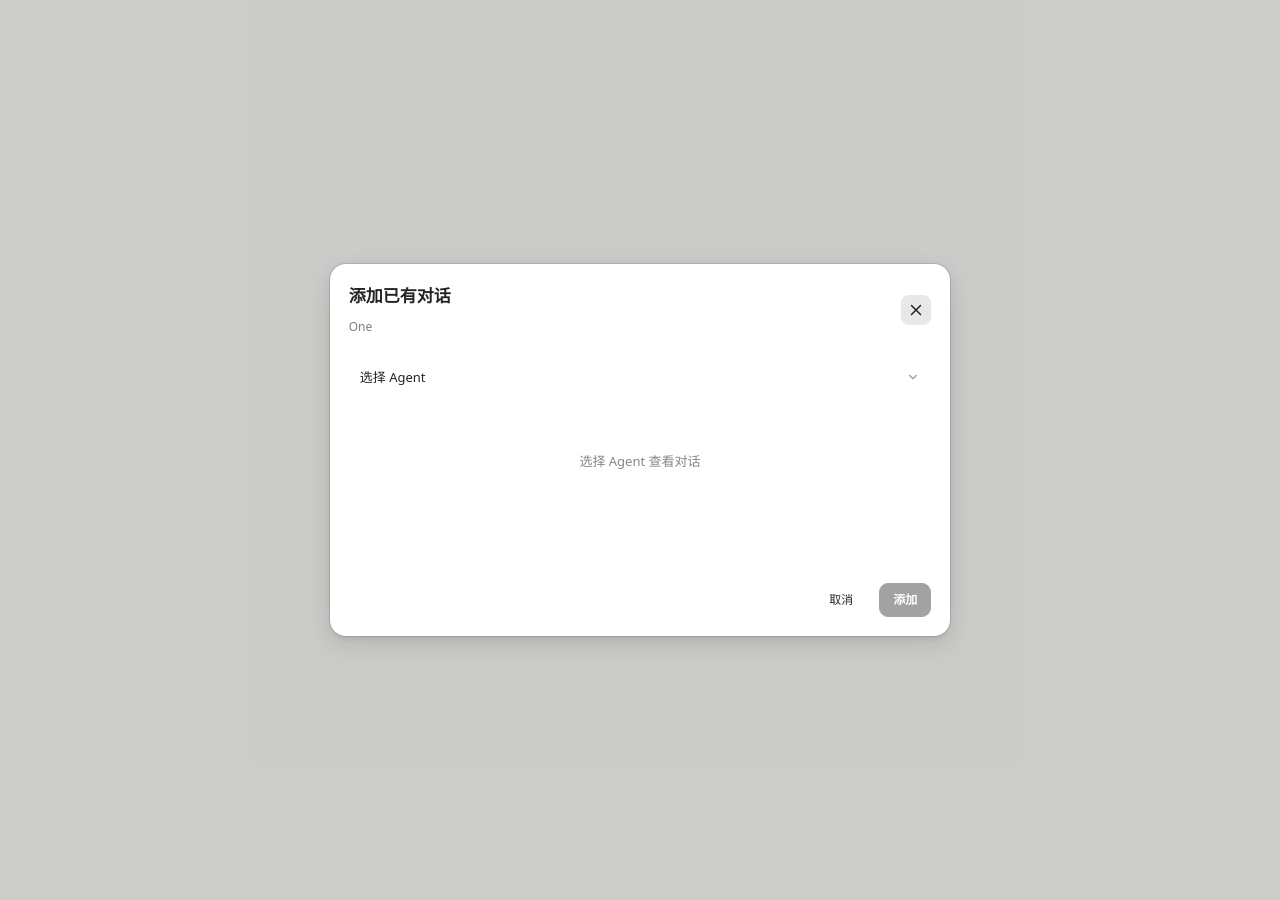
Scenario: clears source-specific search and selection and ignores a late previous source response
Click the dropdown labelled "Agent". click: {"x": 393, "y": 377}
box: [349,359,931,395]
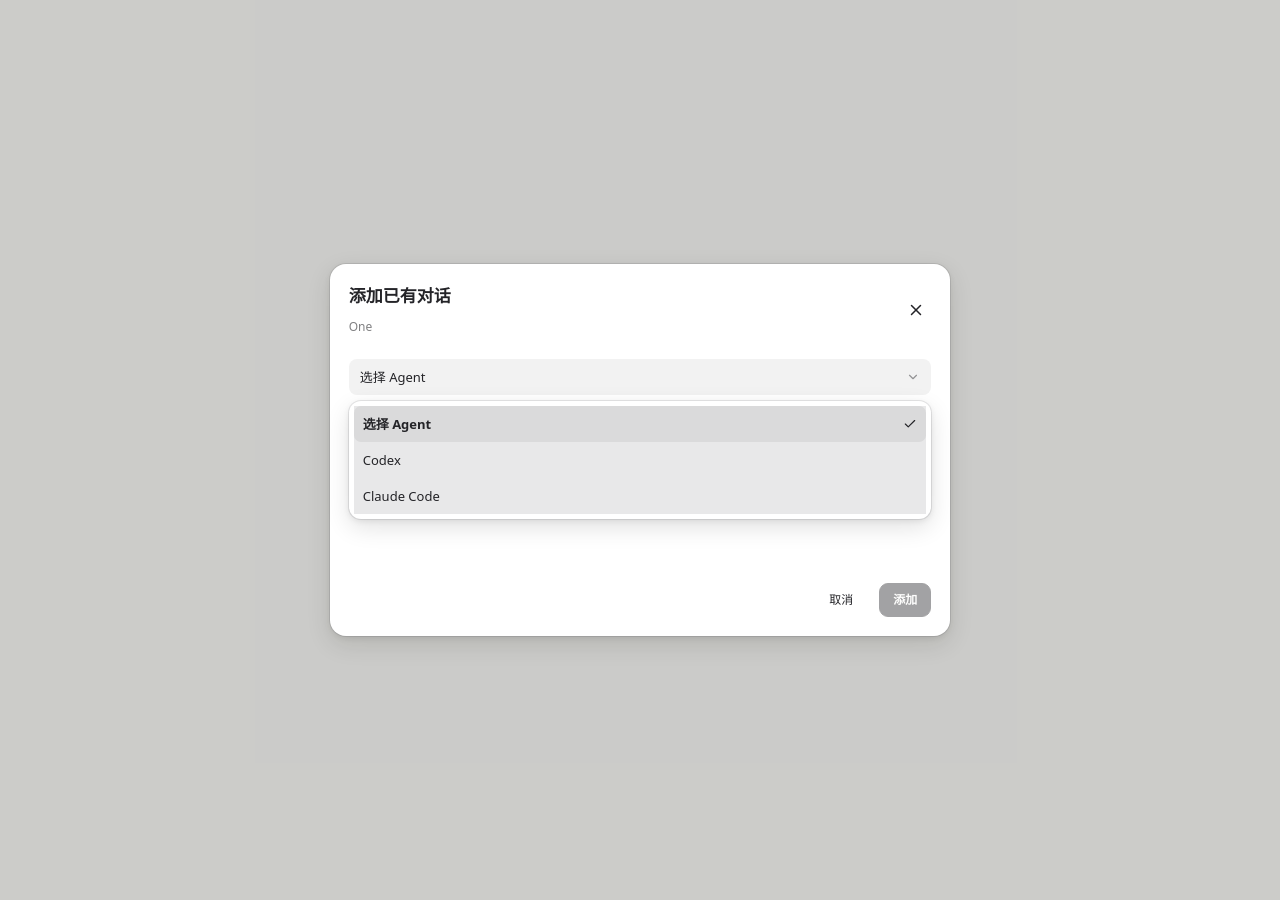
Click the option "Codex". click: {"x": 382, "y": 460}
box: [363,451,401,469]
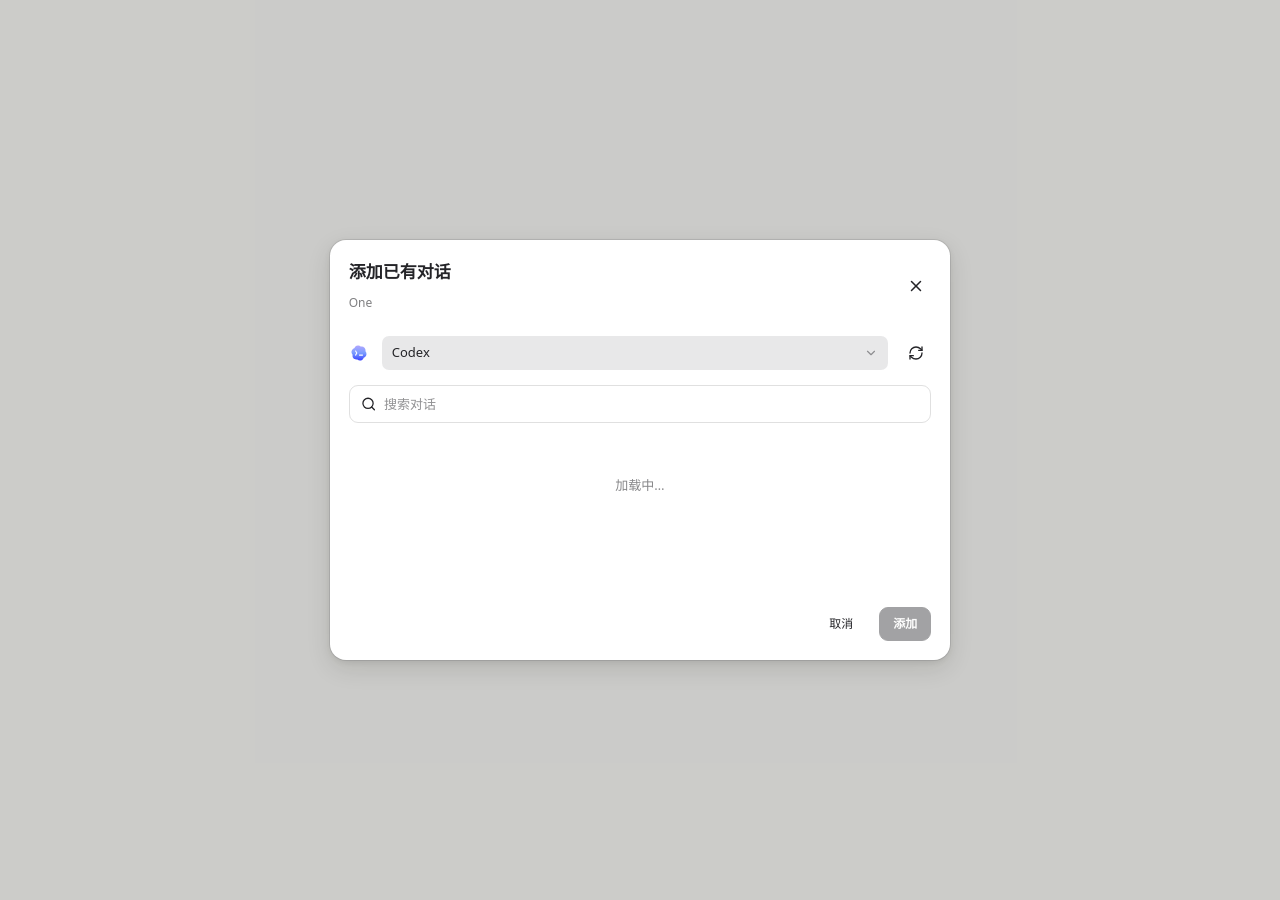
Type "old" into the field labelled "搜索对话". click: {"x": 652, "y": 404}
box: [384,394,919,414]
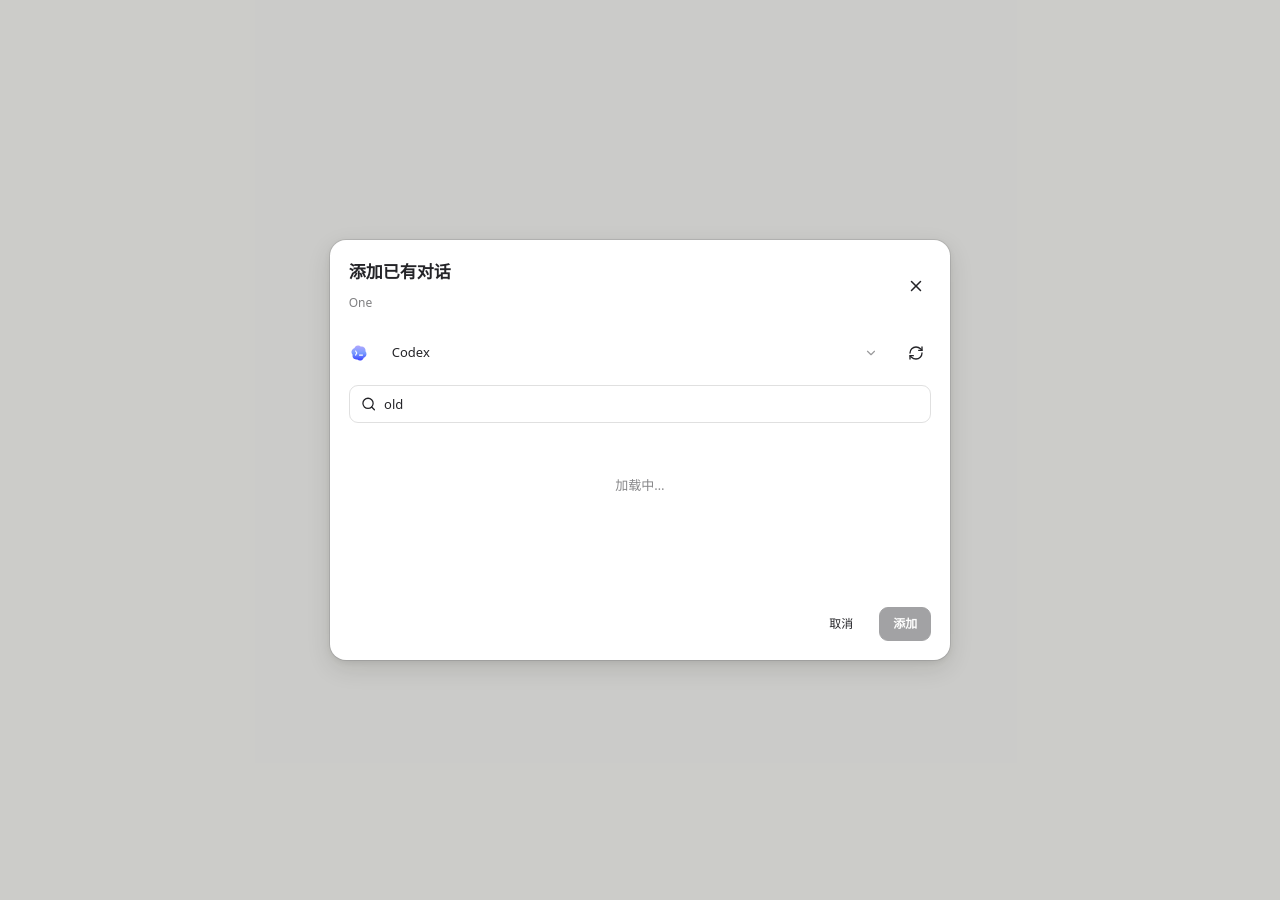
Click the dropdown named "Agent". click: {"x": 411, "y": 352}
box: [381,335,889,371]
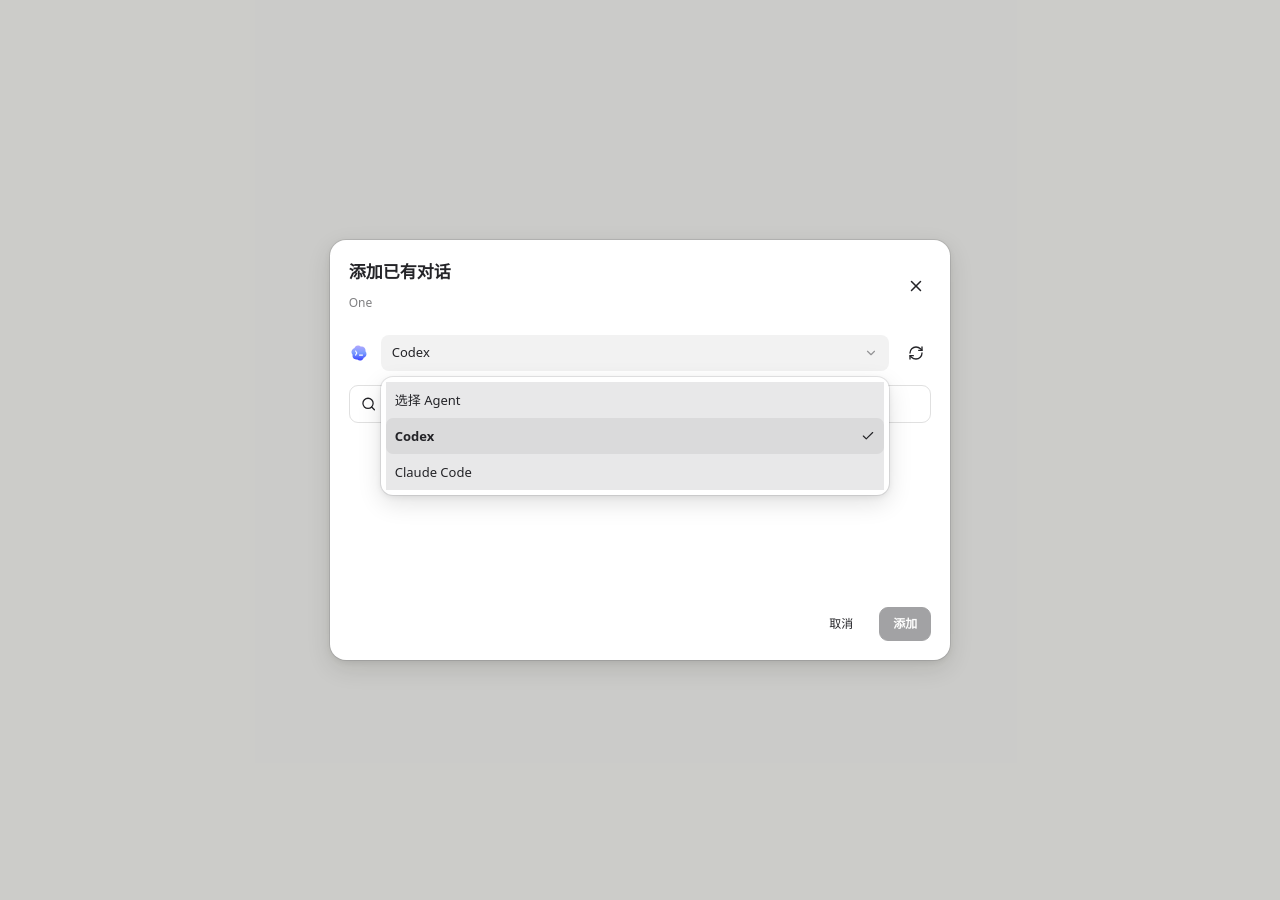
Click the option "Claude Code". click: {"x": 433, "y": 472}
box: [395,463,472,481]
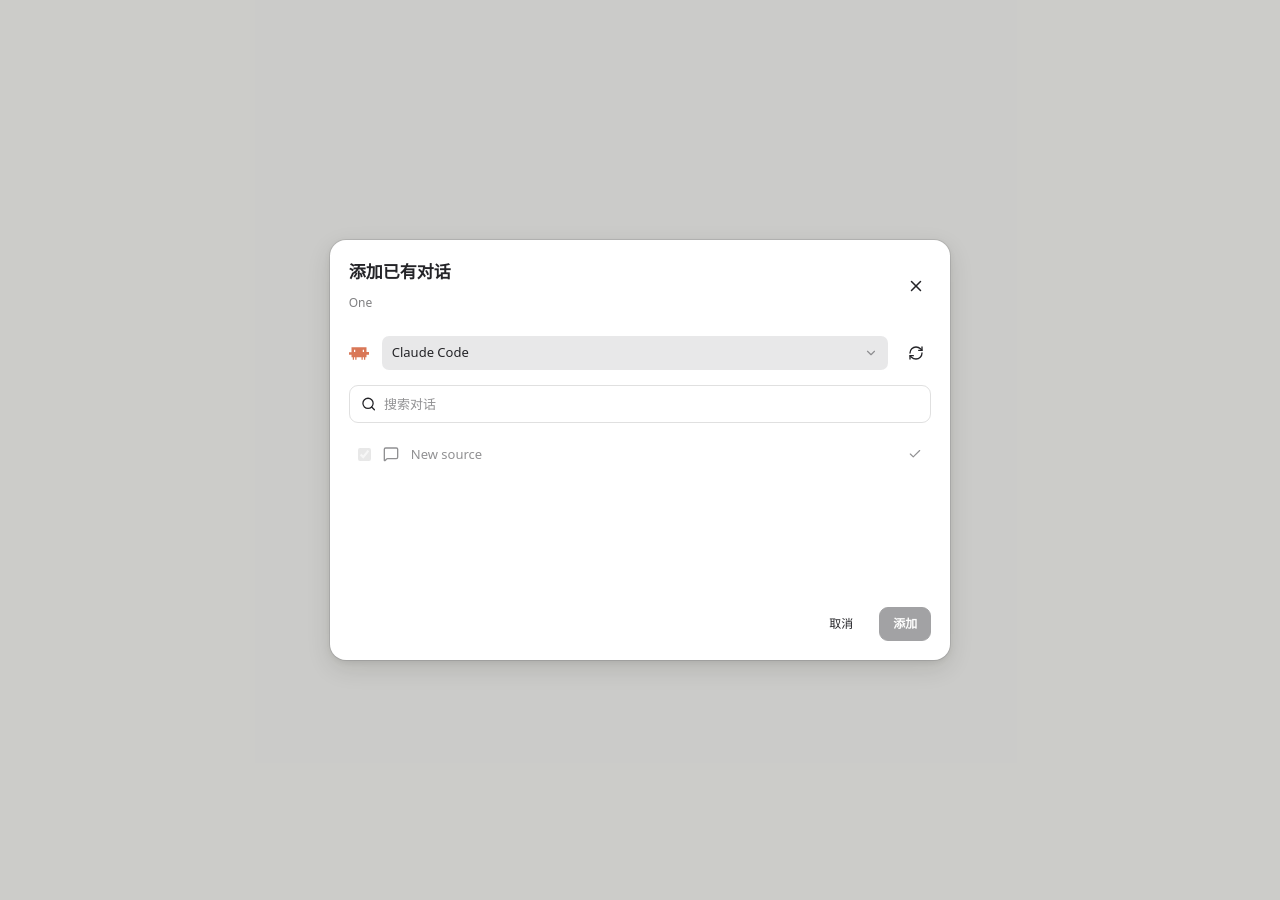
Expected: the button "添加" is disabled, [879,607,931,641]
Expected: the text "New source" is shown, [411,445,482,463]
Expected: the field is empty, [384,394,919,414]
